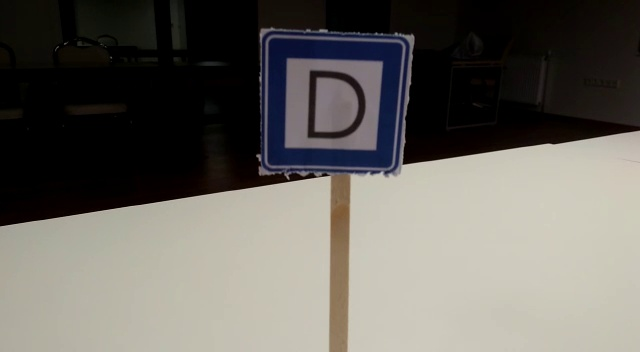durak: (260, 33, 410, 172)
